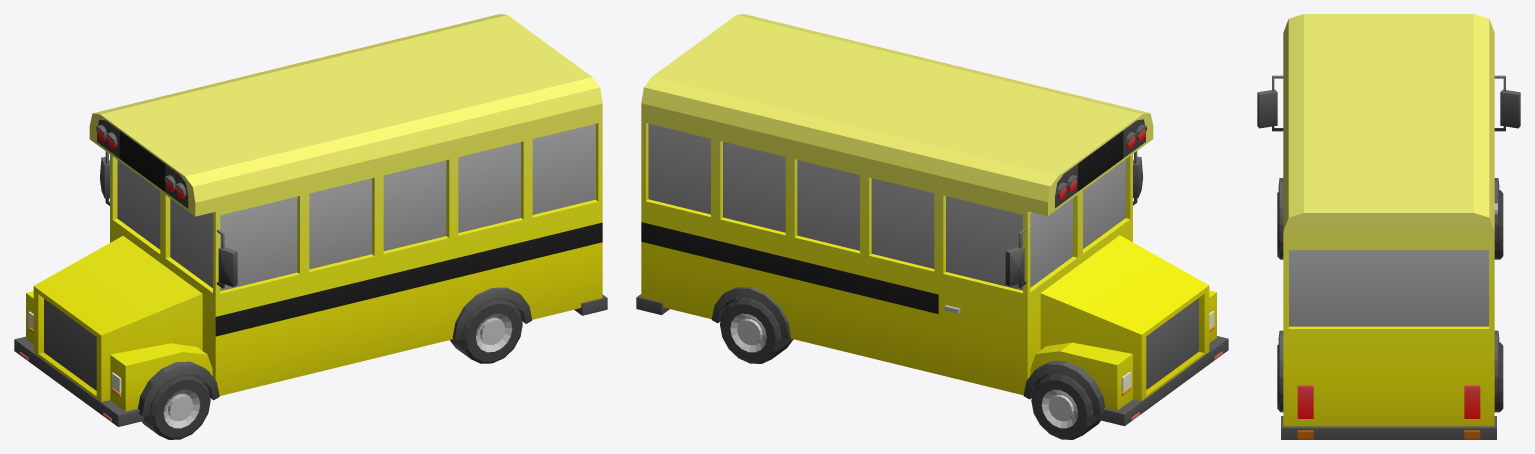
File: School_Bus.fbx
The picture shows the model from 3 angles, left to right: view 1: azimuth 30°, elevation 25°; view 2: azimuth 150°, elevation 25°; view 3: azimuth 270°, elevation 25°; orthographic projection.
Visible parts, largest first — view 1: G_Bus, G_Bus_BWheelL, G_Bus_FWheelL; view 2: G_Bus, G_Bus_BWheelR, G_Bus_FWheelR; view 3: G_Bus, G_Bus_BWheelR, G_Bus_FWheelR.
Boxes of the visible parts, box(x1,y1,x2,y2) form: G_Bus: box(14, 14, 607, 426); G_Bus_BWheelL: box(450, 298, 522, 363); G_Bus_FWheelL: box(141, 374, 210, 439); G_Bus: box(636, 14, 1228, 426); G_Bus_BWheelR: box(720, 297, 793, 363); G_Bus_FWheelR: box(1031, 373, 1100, 439); G_Bus: box(1257, 14, 1520, 439); G_Bus_BWheelR: box(1494, 342, 1503, 412); G_Bus_FWheelR: box(1494, 190, 1503, 259).
Size of the model in its own units: 436 by 213 by 203.
Materials: 1 (1 with a texture image).
